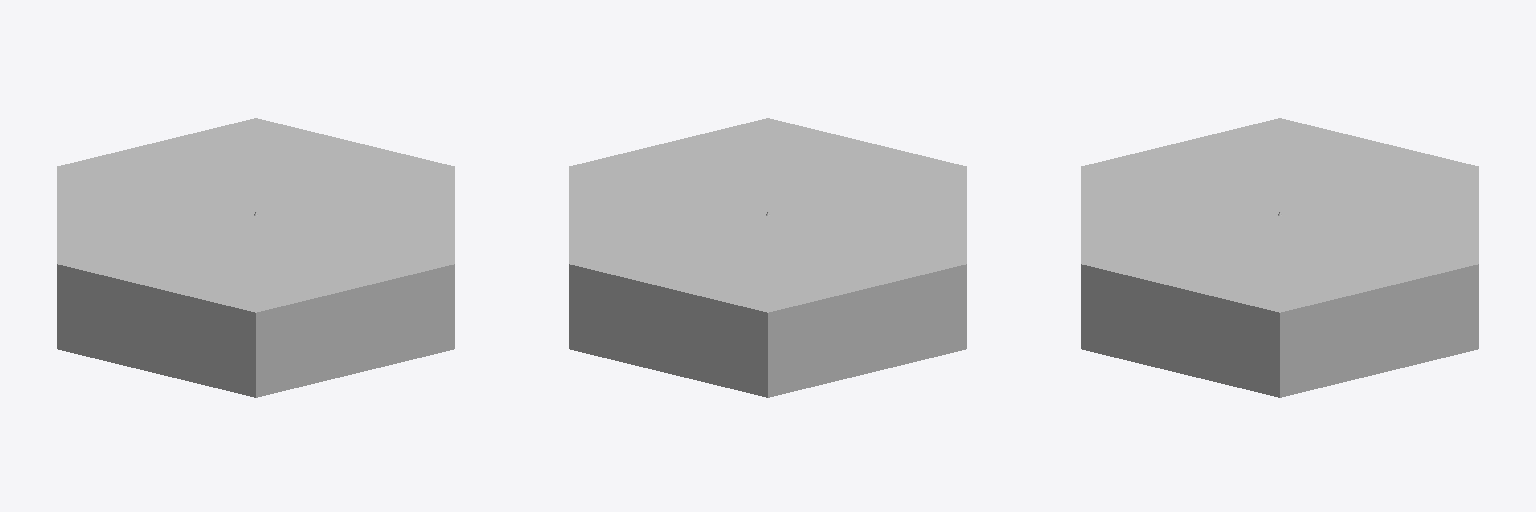
Rendered from grass.obj.
3 renders of one model, left to right at view 1: azimuth 30°, elevation 25°; view 2: azimuth 150°, elevation 25°; view 3: azimuth 270°, elevation 25°, orthographic.
Visible parts, largest first — view 1: group[number redacted], group[number redacted]; view 2: group[number redacted], group[number redacted]; view 3: group[number redacted], group[number redacted].
Part boxes in pixels (x1,y1,x2,y2): group[number redacted]: (57,118,454,334); group[number redacted]: (57,287,454,397); group[number redacted]: (569,118,966,334); group[number redacted]: (569,287,966,397); group[number redacted]: (1081,118,1478,334); group[number redacted]: (1081,287,1478,397).
Bounding box in the file's own units: 1.78 × 0.3798 × 1.54.